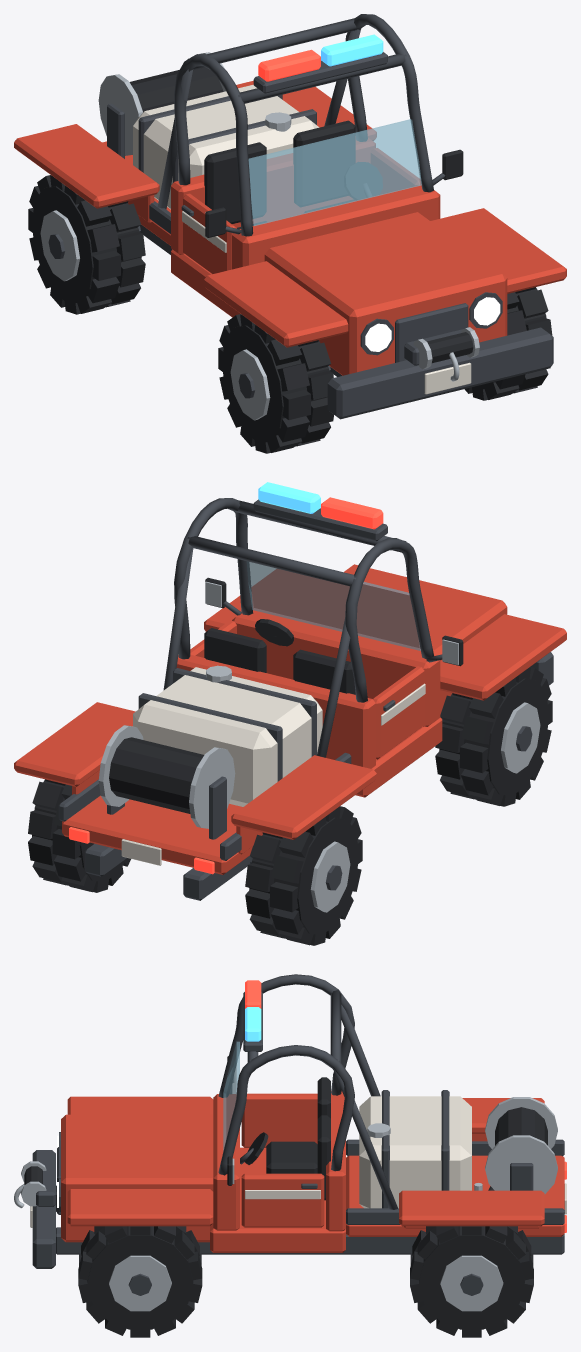
File: brush-fire-truck.glb
The picture shows the model from 3 angles, top to bottom: view 1: azimuth 30°, elevation 25°; view 2: azimuth 150°, elevation 25°; view 3: azimuth 270°, elevation 25°; orthographic projection. The views are drawn at different scales.
Visible parts, largest first — view 1: Hood, Wheel_RR, Wheel_FR, Windshield, FrontBumper, WaterTank, FenderFront_R, FenderRear_R, Dash, FenderFront_L, DriverSeatBack, HoseReel (+27 smaller); view 2: WaterTank, Wheel_RR, Wheel_FR, Hood, HoseReel, Windshield, Deck, Dash, FenderRear_R, FenderFront_R, FenderRear_L, Wheel_RL (+23 smaller); view 3: Hood, Wheel_FL, Wheel_RL, WaterTank, FenderFront_L, HoseReel, FenderRear_L, CabFloor, Door_Left, Door_Right, CageSide_L, Deck (+24 smaller).
Part boxes in pixels (x1=…): Hood: x1=264, y1=212, x2=507, y2=375; Wheel_RR: x1=28, y1=175, x2=145, y2=314; Wheel_FR: x1=218, y1=314, x2=333, y2=453; Windshield: x1=248, y1=119, x2=421, y2=226; FrontBumper: x1=327, y1=327, x2=553, y2=419; WaterTank: x1=133, y1=84, x2=319, y2=209; FenderFront_R: x1=204, y1=261, x2=348, y2=347; FenderRear_R: x1=14, y1=124, x2=159, y2=208; Dash: x1=232, y1=185, x2=440, y2=269; FenderFront_L: x1=430, y1=208, x2=566, y2=293; DriverSeatBack: x1=293, y1=120, x2=355, y2=206; HoseReel: x1=98, y1=52, x2=225, y2=155; WaterTank: x1=133, y1=667, x2=322, y2=806; Wheel_RR: x1=245, y1=806, x2=362, y2=945; Wheel_FR: x1=435, y1=667, x2=552, y2=806; Hood: x1=282, y1=564, x2=507, y2=718; HoseReel: x1=98, y1=725, x2=235, y2=828; Windshield: x1=247, y1=561, x2=420, y2=650; Deck: x1=62, y1=795, x2=252, y2=874; Dash: x1=232, y1=610, x2=440, y2=726; FenderRear_R: x1=231, y1=755, x2=376, y2=839; FenderFront_R: x1=440, y1=614, x2=566, y2=700; FenderRear_L: x1=14, y1=702, x2=135, y2=786; Wheel_RL: x1=28, y1=779, x2=130, y2=892; Hood: x1=61, y1=1114, x2=213, y2=1242; Wheel_FL: x1=78, y1=1226, x2=202, y2=1337; Wheel_RL: x1=410, y1=1226, x2=533, y2=1337; WaterTank: x1=359, y1=1096, x2=471, y2=1208; FenderFront_L: x1=67, y1=1189, x2=213, y2=1226; HoseReel: x1=485, y1=1097, x2=557, y2=1194; FenderRear_L: x1=399, y1=1190, x2=544, y2=1226; CabFloor: x1=210, y1=1147, x2=345, y2=1252; Door_Left: x1=241, y1=1173, x2=324, y2=1227; Door_Right: x1=241, y1=1093, x2=317, y2=1147; CageSide_L: x1=218, y1=1045, x2=354, y2=1175; Deck: x1=346, y1=1155, x2=564, y2=1236.
Size of the model in its own units: 8.6 by 9.25 by 16.68.
